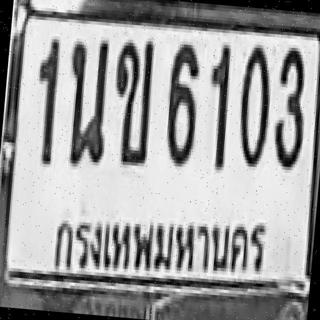A02: (107, 35, 155, 163)
A25: (61, 34, 112, 166)
N00: (233, 42, 273, 166)
N01: (202, 41, 233, 170), (30, 35, 59, 164)
N03: (269, 45, 308, 169)
N06: (160, 40, 201, 164)
P04: (45, 203, 276, 296)
